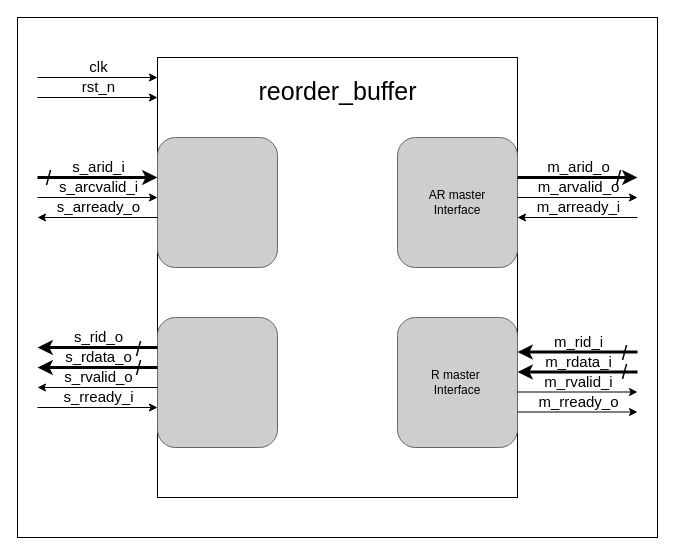
The diagram is 675 pixels wide and 555 high, and some of its shapes have lost their labels. Each missing label, with the box of its shape:
AR Slave Interface: (156, 136, 278, 268)
R Slave Interface: (156, 316, 278, 448)
